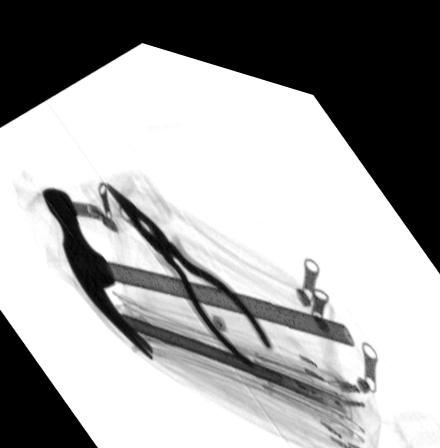Hammer: (41, 184, 356, 349)
Pliers: (105, 176, 274, 350)
